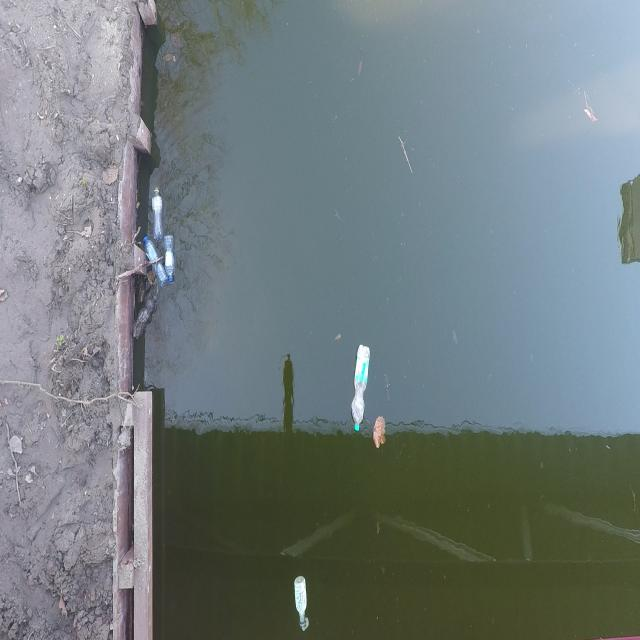Bouteille plastique: (353, 346, 369, 428), (142, 237, 166, 287), (133, 294, 156, 338), (296, 576, 306, 630), (152, 189, 162, 241), (165, 234, 174, 281)
